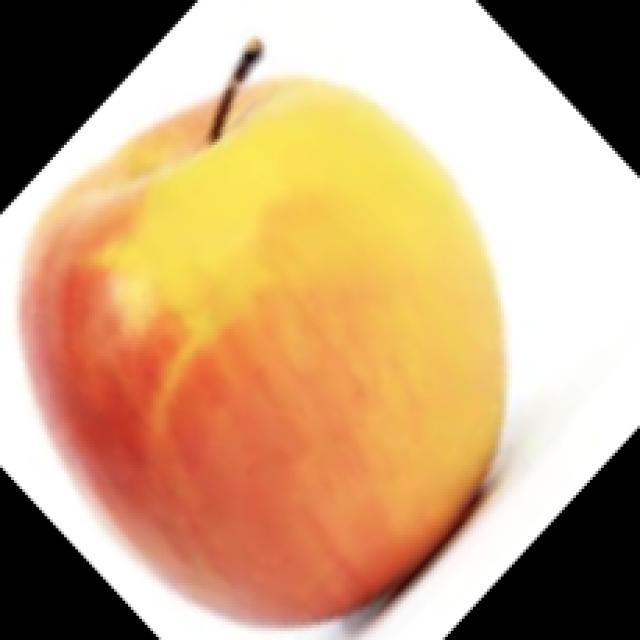Fresh Apple: (23, 100, 502, 640)
